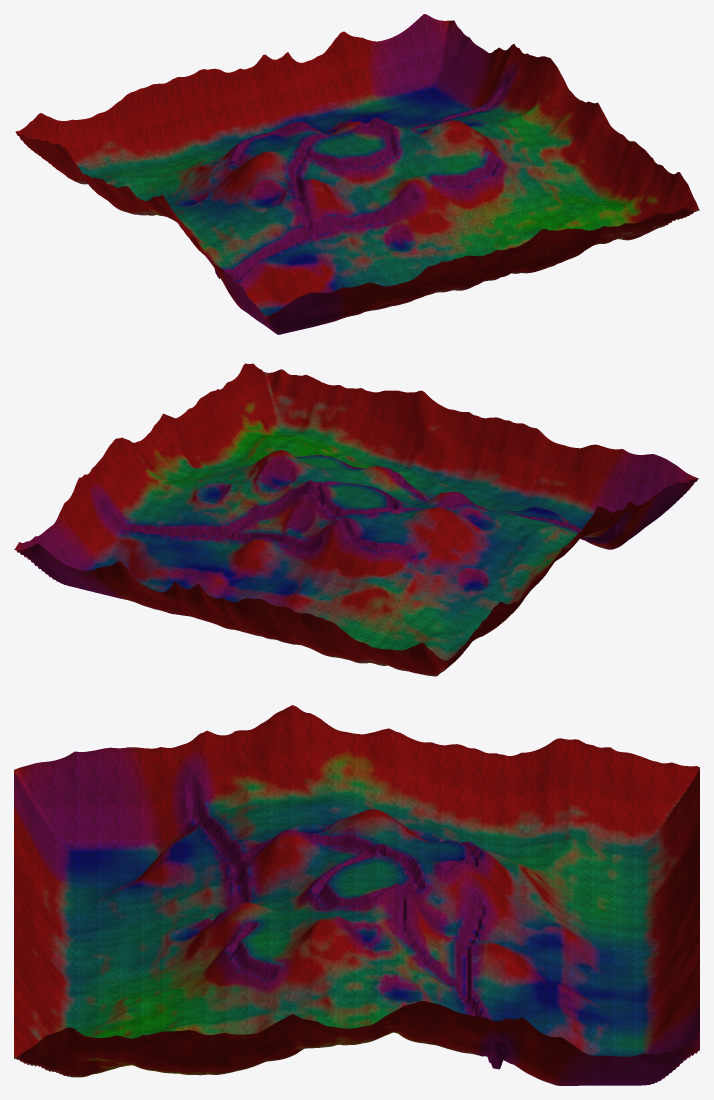
File: terrain_ridgeline.glb
3 renders of one model, top to bottom at view 1: azimuth 30°, elevation 25°; view 2: azimuth 150°, elevation 25°; view 3: azimuth 270°, elevation 25°, orthographic. The views are drawn at different scales.
Visible parts, largest first — view 1: terrain_1_1, terrain_3_3, terrain_2_1, terrain_3_1, terrain_1_3, terrain_2_3, terrain_3_0, terrain_0_1, terrain_0_3, terrain_2_0, terrain_0_0, terrain_3_2 (+4 smaller); view 2: terrain_3_0, terrain_1_2, terrain_3_2, terrain_2_2, terrain_2_0, terrain_1_0, terrain_1_3, terrain_0_2, terrain_3_3, terrain_0_0, terrain_2_3, terrain_0_1 (+4 smaller); view 3: terrain_0_3, terrain_0_0, terrain_0_1, terrain_0_2, terrain_2_2, terrain_3_1, terrain_1_0, terrain_2_1, terrain_1_3, terrain_1_1, terrain_2_3, terrain_1_2 (+4 smaller).
Boxes of the visible parts, box(x1,y1,x2,y2) form: terrain_1_1: box(248, 147, 419, 259); terrain_3_3: box(340, 14, 511, 118); terrain_2_1: box(357, 120, 527, 239); terrain_3_1: box(477, 96, 636, 208); terrain_1_3: box(123, 68, 252, 174); terrain_2_3: box(231, 33, 402, 136); terrain_3_0: box(529, 143, 699, 256); terrain_0_1: box(140, 182, 310, 286); terrain_0_3: box(15, 99, 184, 194); terrain_2_0: box(420, 208, 590, 289); terrain_0_0: box(202, 252, 373, 334); terrain_3_2: box(403, 44, 574, 134); terrain_3_0: box(202, 363, 373, 457); terrain_1_2: box(294, 493, 465, 608); terrain_3_2: box(77, 437, 247, 555); terrain_2_2: box(186, 468, 356, 581); terrain_2_0: box(329, 390, 482, 494); terrain_1_0: box(424, 417, 590, 513); terrain_1_3: box(231, 580, 402, 662); terrain_0_2: box(403, 527, 572, 638); terrain_3_3: box(14, 483, 184, 604); terrain_0_0: box(529, 444, 698, 549); terrain_2_3: box(123, 556, 293, 633); terrain_0_1: box(466, 502, 636, 563); terrain_0_3: box(528, 738, 699, 898); terrain_0_0: box(14, 744, 185, 897); terrain_0_1: box(185, 705, 356, 859); terrain_0_2: box(357, 728, 528, 867); terrain_2_2: box(357, 881, 528, 1013); terrain_3_1: box(185, 956, 356, 1075); terrain_1_0: box(14, 833, 185, 970); terrain_2_1: box(185, 881, 356, 1009); terrain_1_3: box(528, 831, 699, 970); terrain_1_1: box(185, 814, 356, 944); terrain_2_3: box(528, 904, 699, 1039); terrain_1_2: box(357, 809, 528, 939).
Size of the model in its own units: 192 by 38.25 by 192.
Materials: 1 (1 with a texture image).
